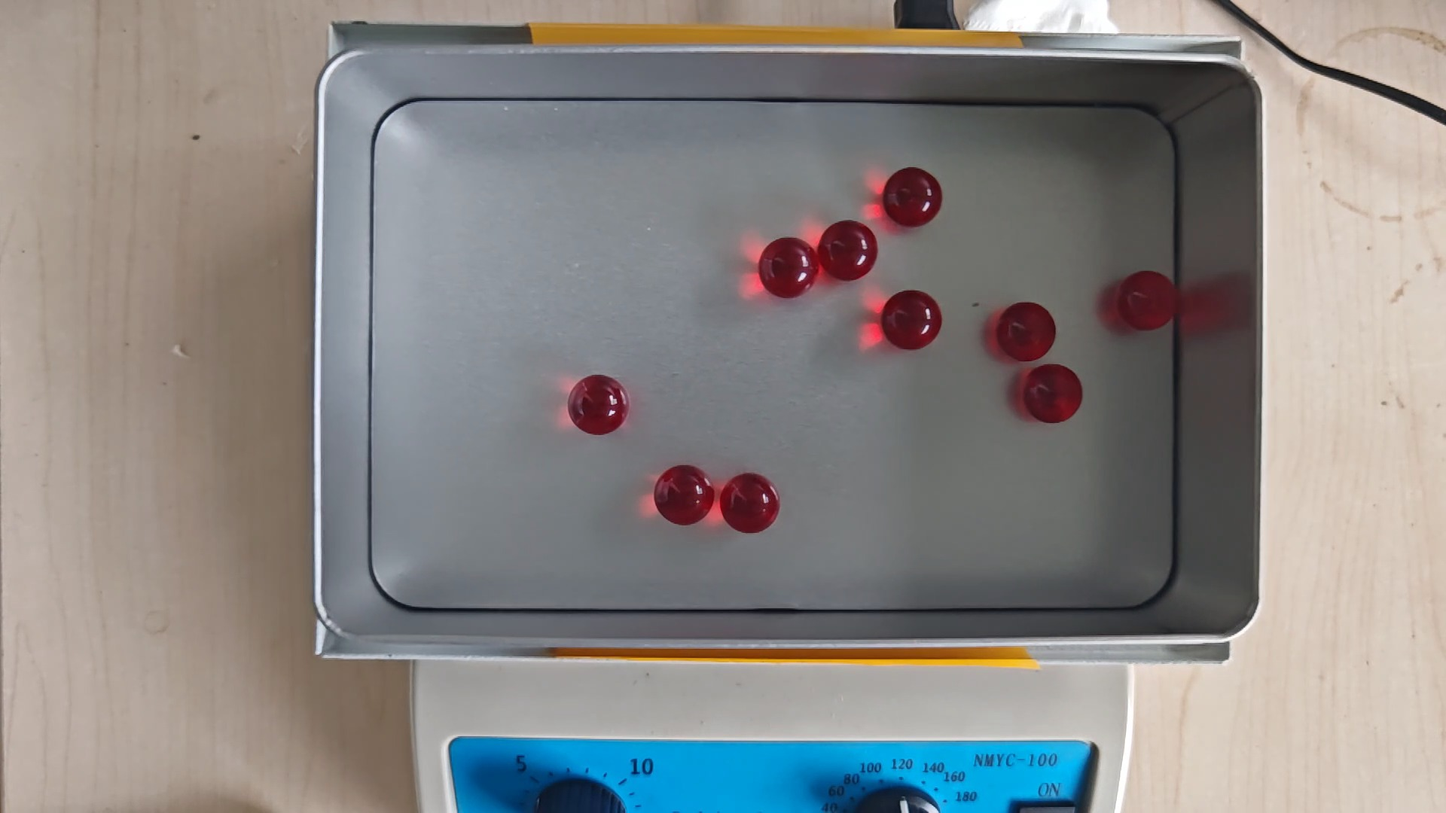ball: (881, 289, 942, 352), (568, 374, 629, 436), (1117, 270, 1178, 332), (759, 236, 818, 300), (654, 464, 714, 526), (1023, 363, 1083, 425), (998, 300, 1057, 363), (882, 167, 942, 228), (819, 220, 878, 282), (721, 472, 779, 533)
container: (366, 94, 1180, 612)
